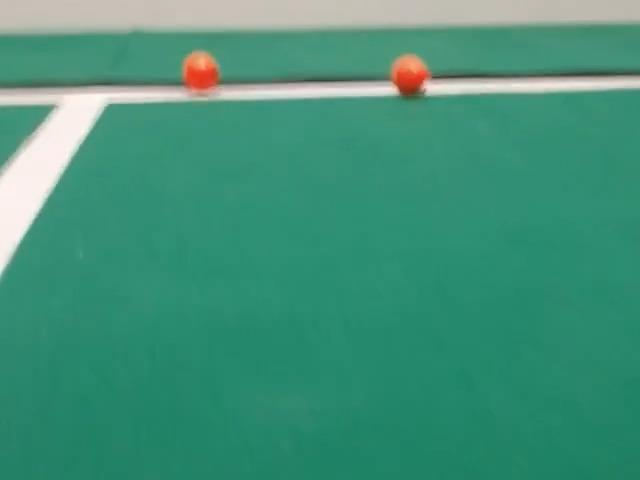Ball: (391, 54, 430, 95), (182, 51, 219, 91)
